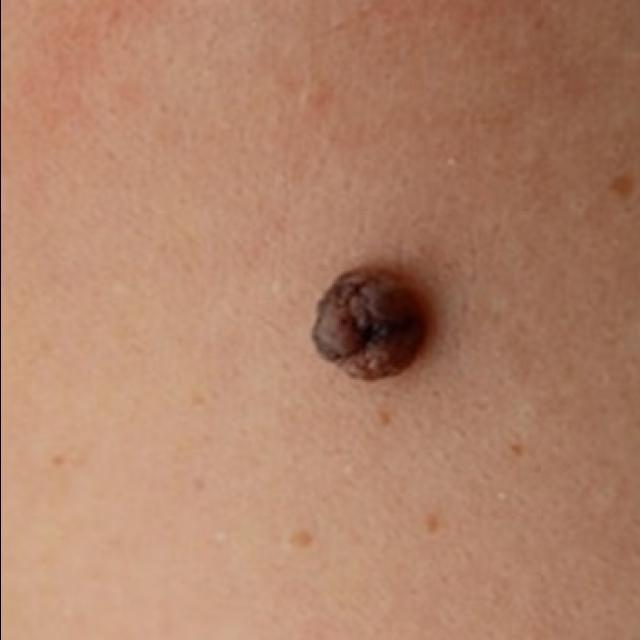wart: (314, 249, 436, 391)
